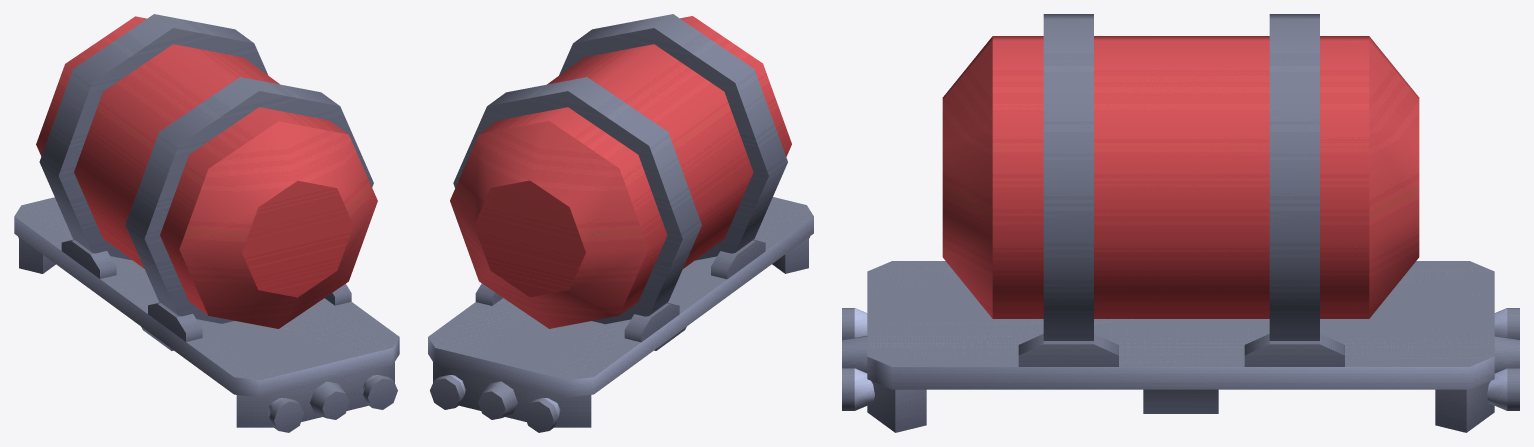
Rendered from train-carriage-tank_lev2.glb.
The picture shows the model from 3 angles, left to right: view 1: azimuth 30°, elevation 25°; view 2: azimuth 150°, elevation 25°; view 3: azimuth 270°, elevation 25°; orthographic projection. The views are drawn at different scales.
Parts seen in each view (by area): view 1: train-carriage-tank_lev2; view 2: train-carriage-tank_lev2; view 3: train-carriage-tank_lev2.
Boxes of the visible parts, left/top/right/bottom form: train-carriage-tank_lev2: left=14, top=14, right=399, bottom=432; train-carriage-tank_lev2: left=428, top=14, right=813, bottom=432; train-carriage-tank_lev2: left=842, top=14, right=1519, bottom=432.
Size of the model in its own units: 1.39 by 1.59 by 2.7.
1 material, 1 textured.
